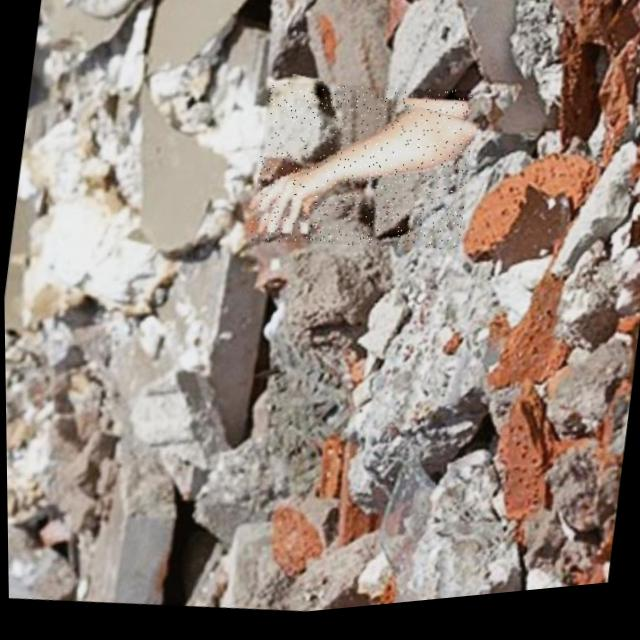Person in Rubble: (247, 70, 479, 274)
